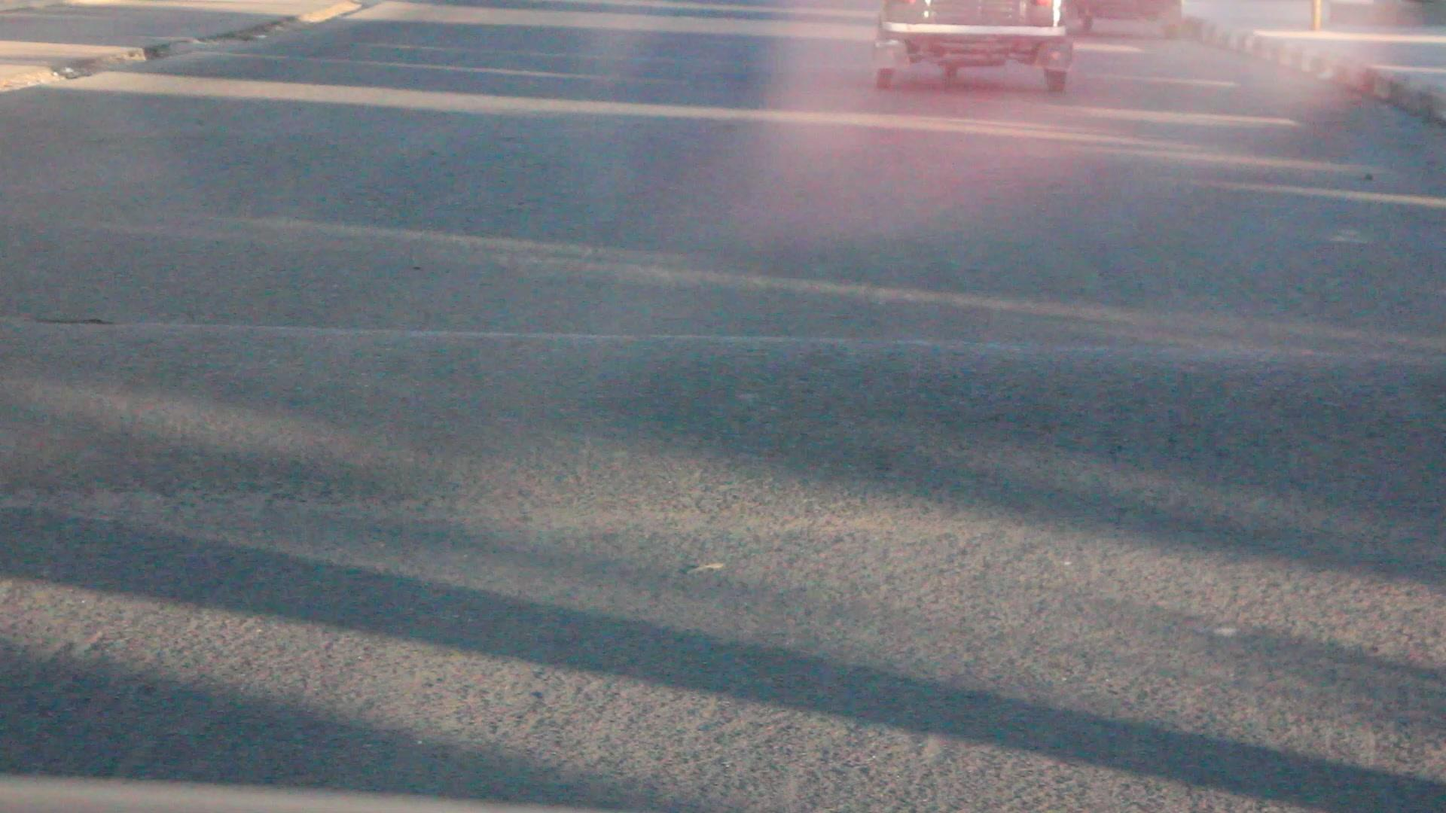Bump: (0, 307, 1446, 525)
